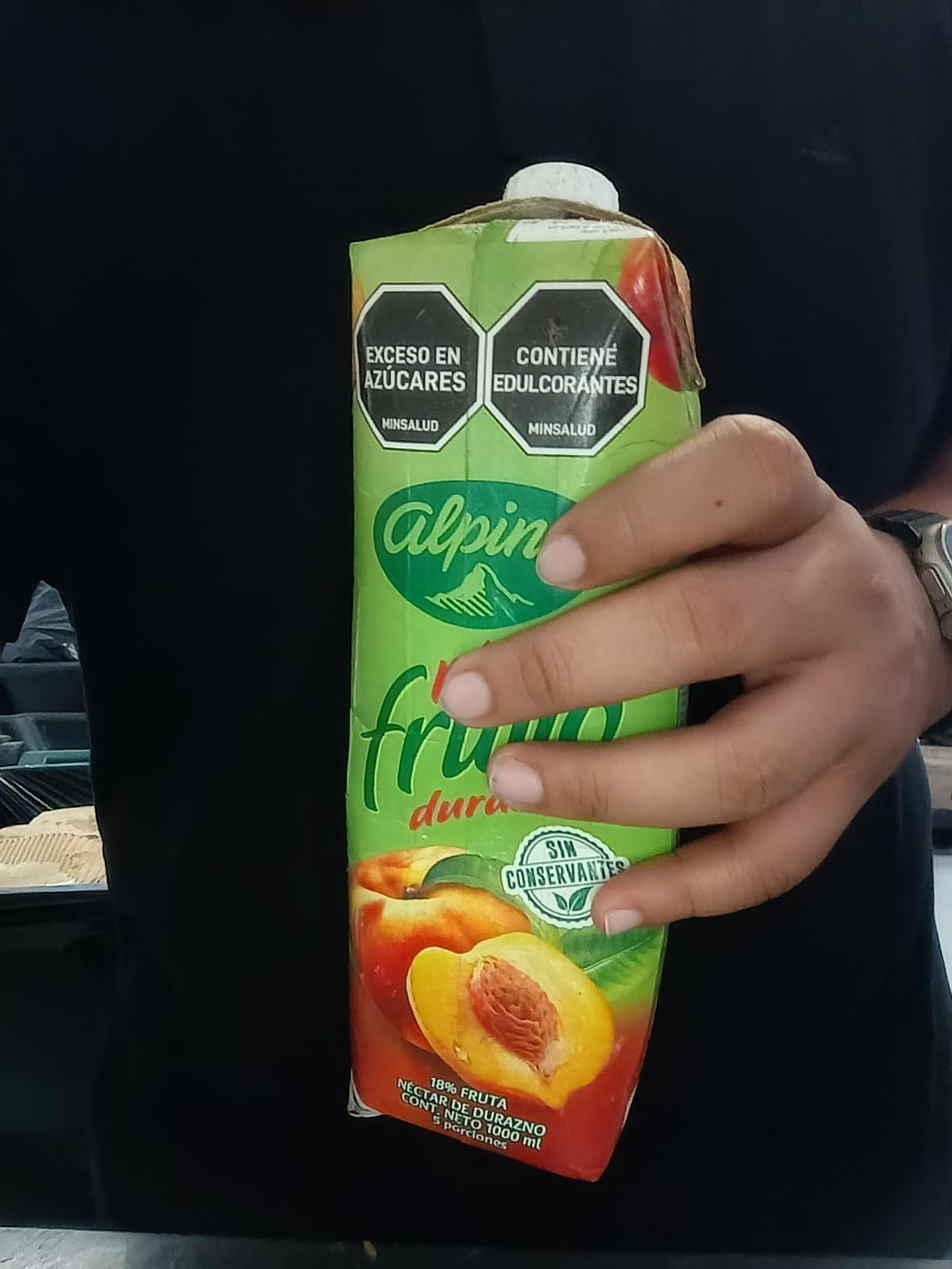Carton: (342, 211, 701, 1182)
